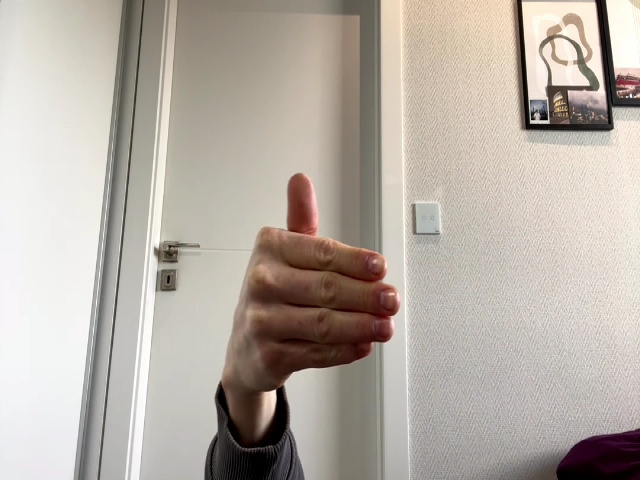M: (231, 173, 400, 396)
